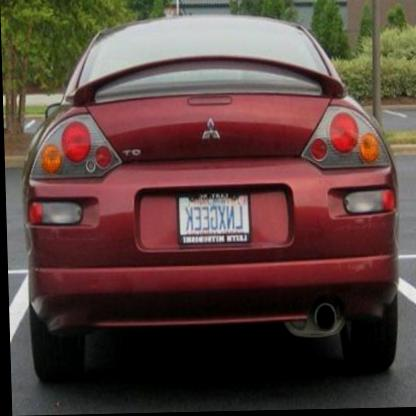License_Plate: (178, 196, 249, 244)
